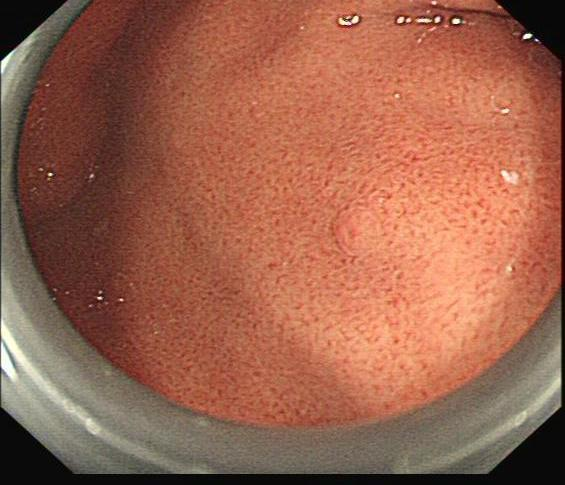Polyp: (334, 208, 385, 259)
